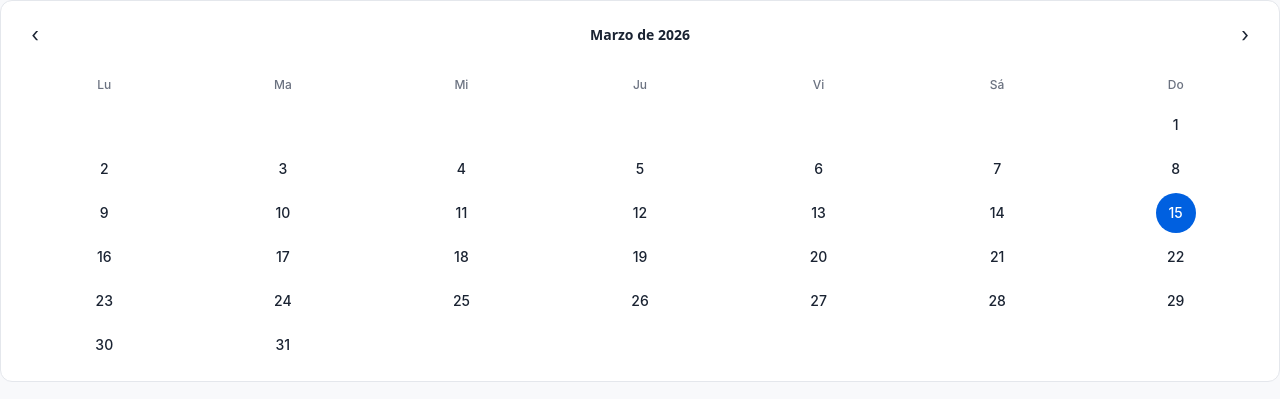
Test: CalendarPicker › renders the selected month, changes month, and returns a chosen date
Later steps or results of the test are not shown.
Expected: the heading "Marzo de 2026" is shown, [590,25,690,45]
Step 1. Click the button named "Mes siguiente" → (1245, 35), box [1227,17,1263,53]
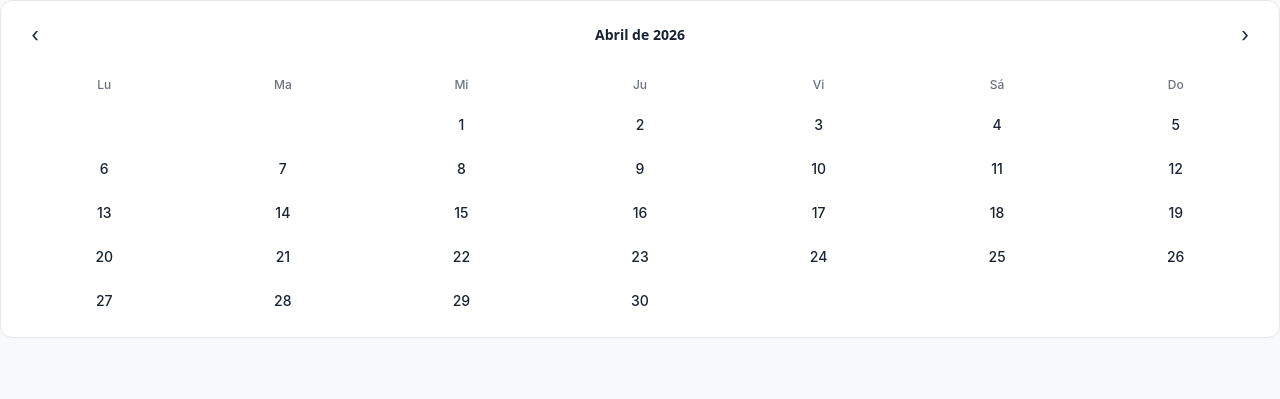
Expected: the heading "Abril de 2026" is shown, [595,25,685,45]
